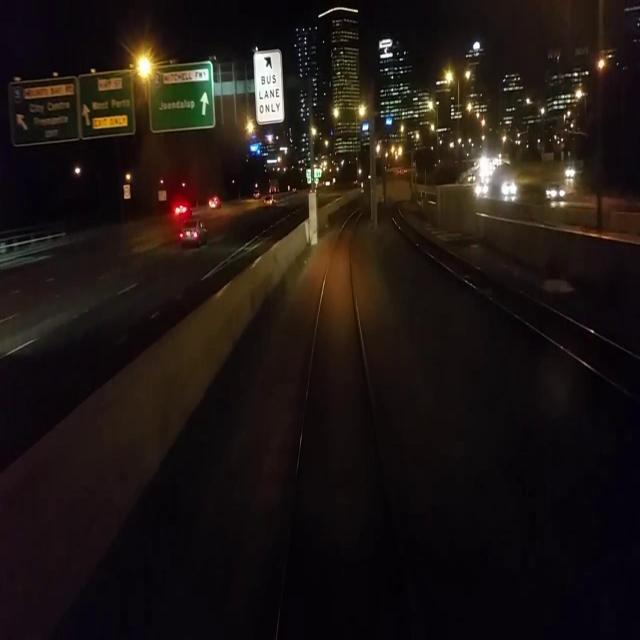rail-track: (392, 200, 640, 398), (286, 206, 404, 575)
